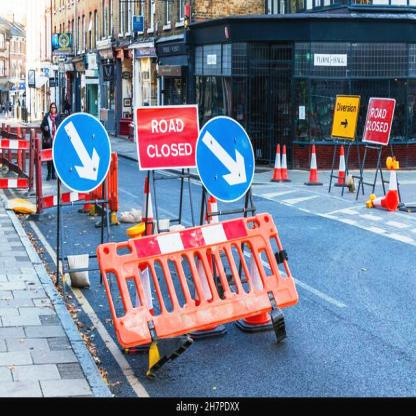Keep right: (194, 112, 256, 202), (51, 110, 113, 195)
